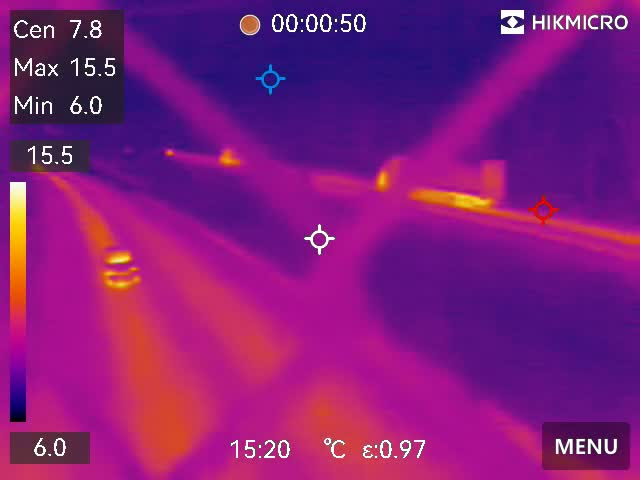heavyTruck: (377, 156, 512, 206)
vehicle: (97, 247, 145, 290)
